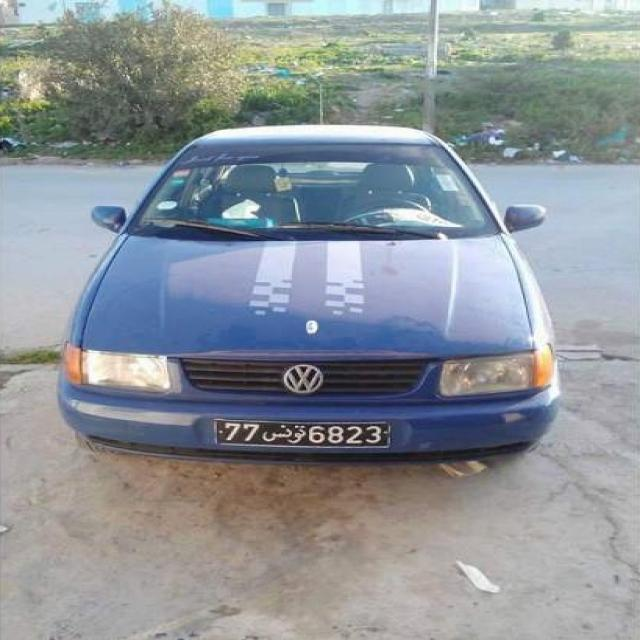licence plate: (217, 420, 389, 447)
